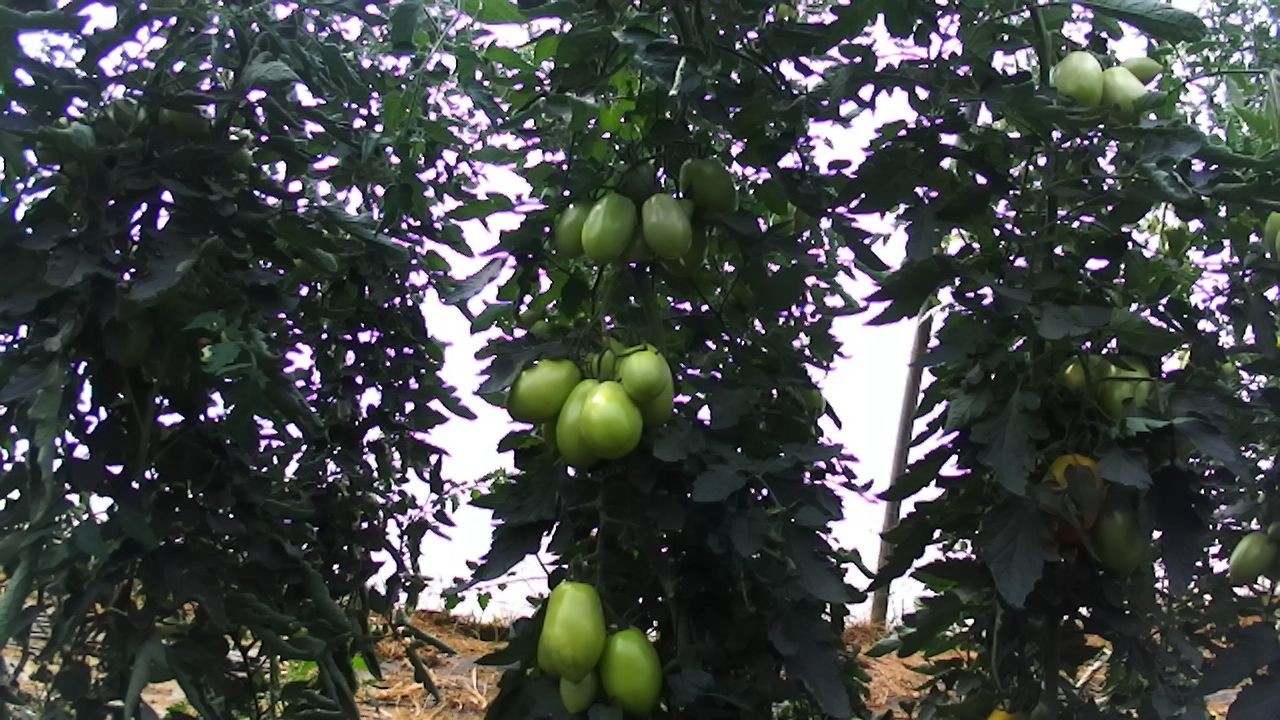tomato: (536, 579, 609, 688), (595, 622, 665, 719), (547, 371, 612, 474), (578, 377, 646, 462), (503, 357, 585, 424), (1092, 496, 1149, 579), (577, 189, 639, 264), (639, 188, 695, 262), (676, 151, 742, 213), (1051, 46, 1108, 109), (1096, 57, 1151, 116), (1226, 529, 1278, 588), (555, 658, 606, 718), (551, 195, 597, 260), (618, 347, 670, 404), (1118, 53, 1167, 89)
